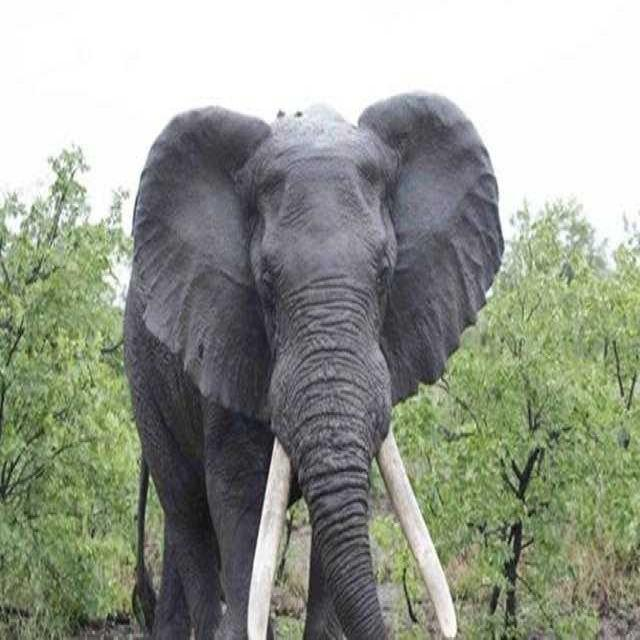Elephant: (121, 89, 505, 638)
